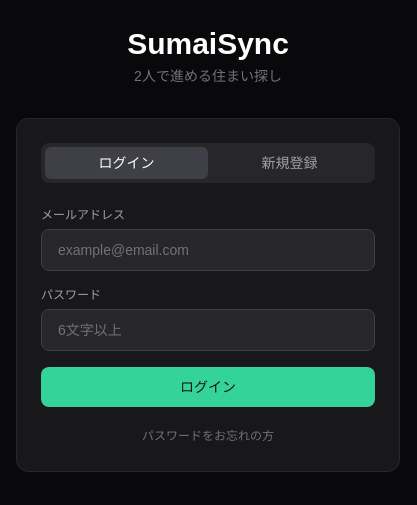
Test: LoginPage › ログイン失敗時にエラーメッセージが表示される
In the field with placeholder "example@email.com": (208, 250) [41, 229, 375, 271], type "test@example.com"
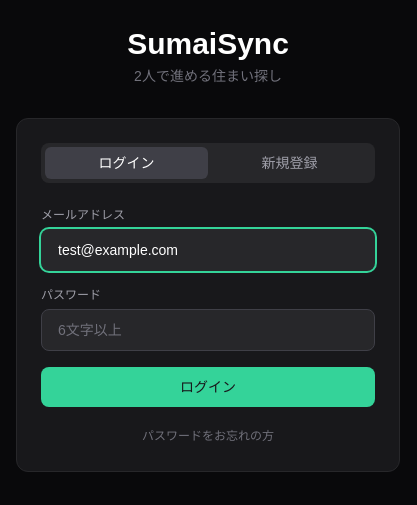
In the password field with placeholder "6文字以上": (208, 330) [41, 309, 375, 351], type "wrongpass"
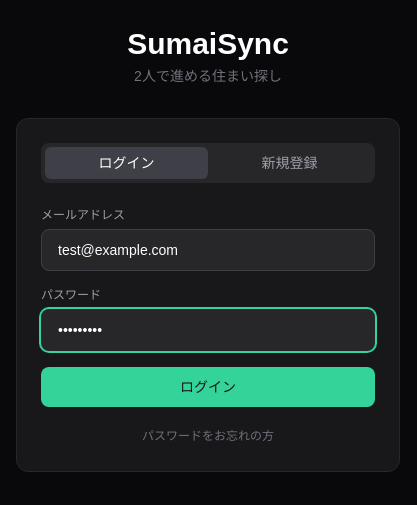
Click the button with test id "submit-button": (208, 387) [41, 367, 375, 407]
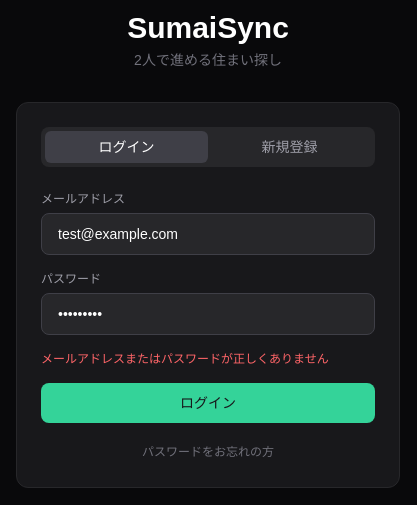
Expected: the text "メールアドレスまたはパスワードが正しくありません" is shown, [41, 351, 375, 367]
